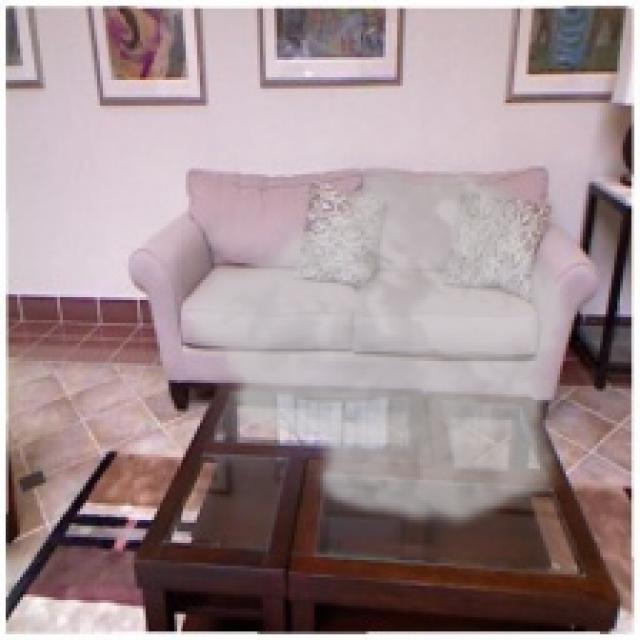Smoke: (177, 152, 574, 532)
